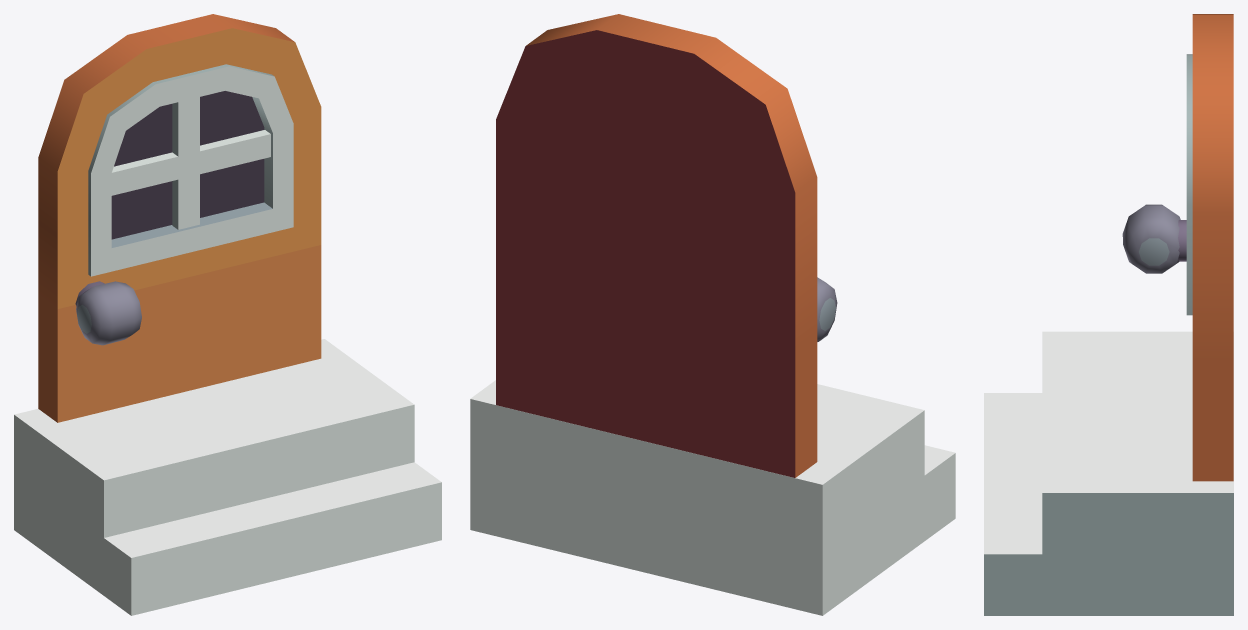
File: Door01_Orange_White.glb
3 renders of one model, left to right at view 1: azimuth 30°, elevation 25°; view 2: azimuth 150°, elevation 25°; view 3: azimuth 270°, elevation 25°, orthographic. The views are drawn at different scales.
Parts seen in each view (by area): view 1: Door01_Orange_White; view 2: Door01_Orange_White; view 3: Door01_Orange_White.
Boxes of the visible parts, x1=… form: Door01_Orange_White: x1=14, y1=14, x2=441, y2=615; Door01_Orange_White: x1=470, y1=14, x2=955, y2=615; Door01_Orange_White: x1=984, y1=14, x2=1233, y2=615.
Bounding box in the file's own units: 0.9795 × 1.41 × 0.6407.
1 material, 1 textured.
